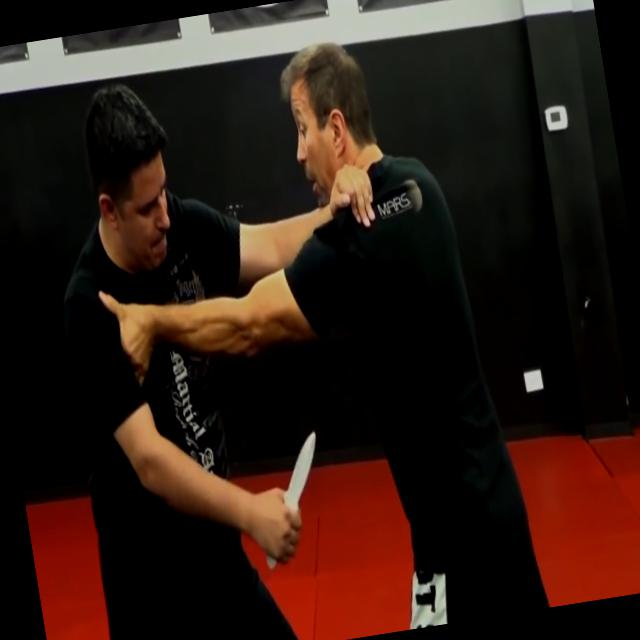knife: (243, 426, 338, 574)
